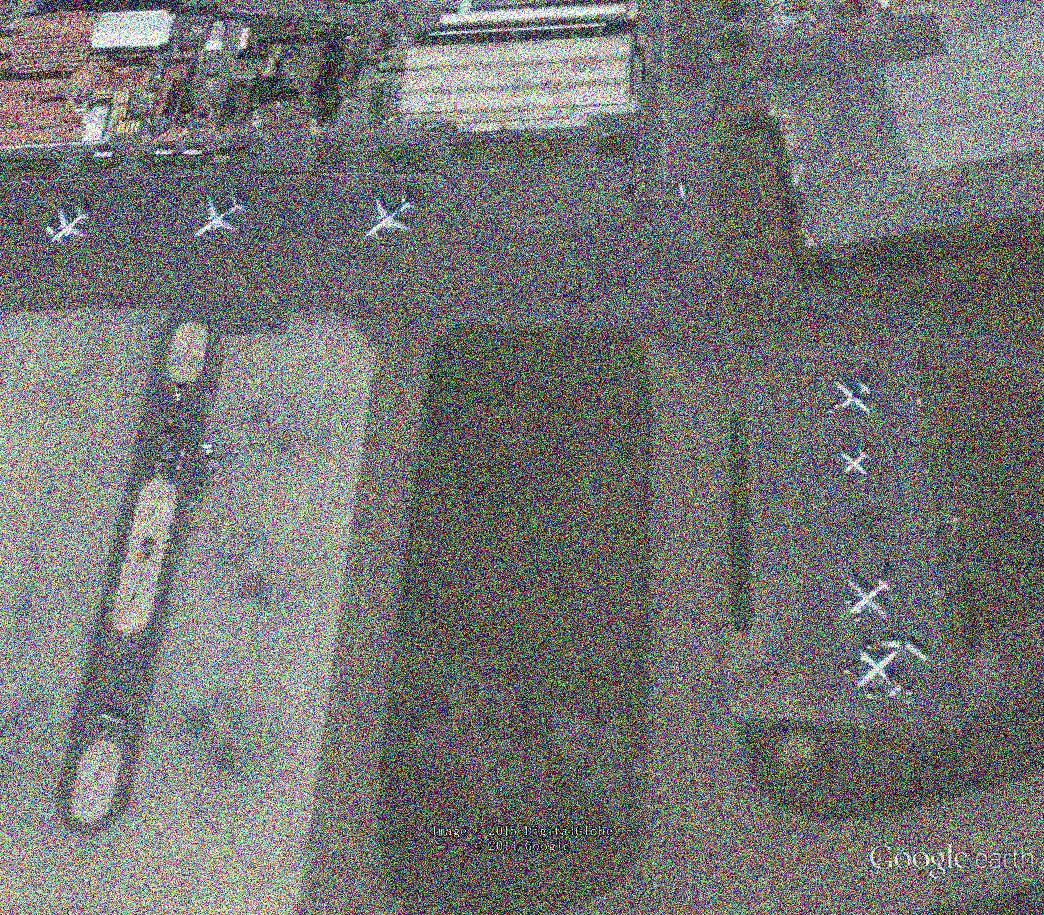aircraft: (853, 645, 904, 703), (193, 192, 252, 240), (361, 192, 418, 240), (846, 574, 895, 625), (45, 201, 94, 247), (829, 376, 879, 420), (837, 447, 873, 480)
